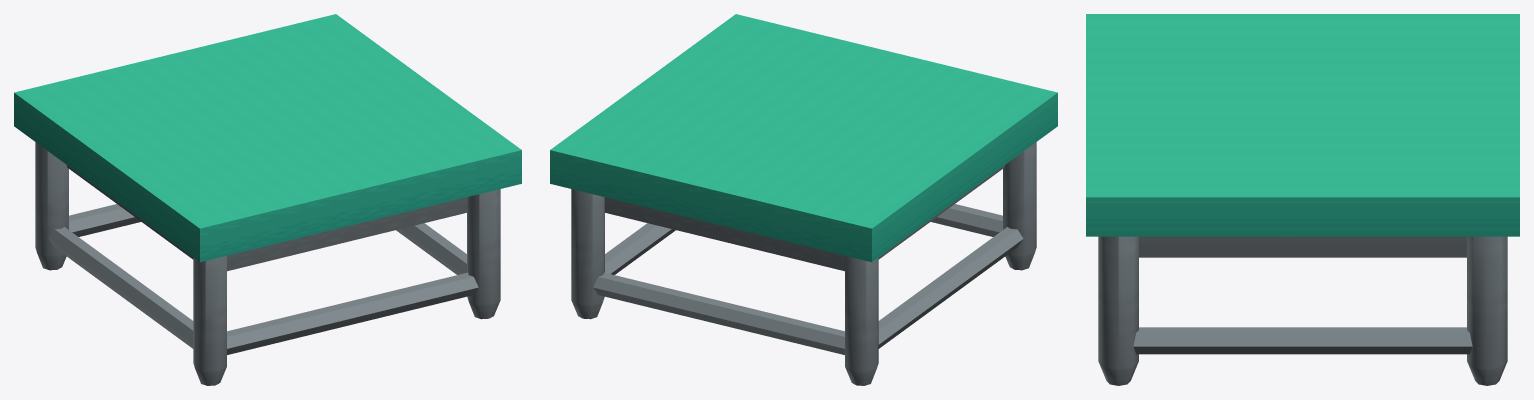
File: kitchentable_B.gltf
The picture shows the model from 3 angles, left to right: view 1: azimuth 30°, elevation 25°; view 2: azimuth 150°, elevation 25°; view 3: azimuth 270°, elevation 25°; orthographic projection. The views are drawn at different scales.
Visible parts, largest first — view 1: kitchentable_B; view 2: kitchentable_B; view 3: kitchentable_B.
Part boxes in pixels (x1,y1,x2,y2): kitchentable_B: (14, 14, 521, 385); kitchentable_B: (550, 14, 1057, 385); kitchentable_B: (1086, 14, 1519, 385).
Size of the model in its own units: 2 by 1 by 2.
Materials: 1 (1 with a texture image).
